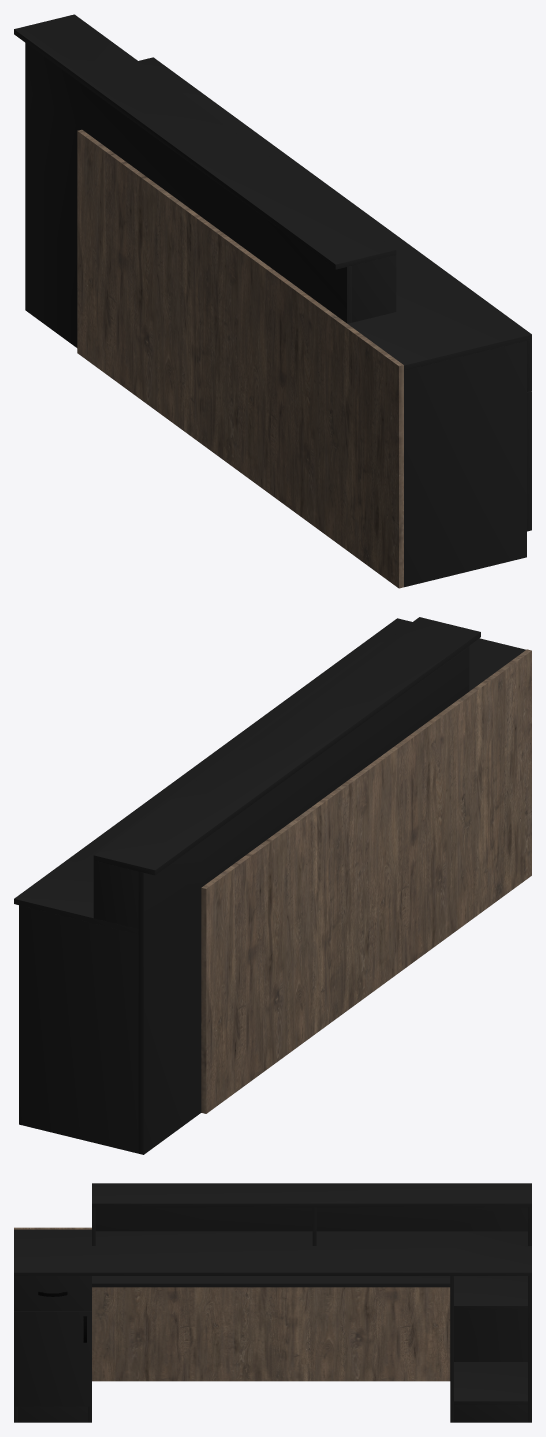
Rendered from Scrivania_reception.fbx.
3 views of the same model, one above another, from view 1: azimuth 30°, elevation 25°; view 2: azimuth 150°, elevation 25°; view 3: azimuth 270°, elevation 25° (orthographic). The views are drawn at different scales.
Parts seen in each view (by area): view 1: Scrivania_rec; view 2: Scrivania_rec; view 3: Scrivania_rec.
Boxes of the visible parts, box(x1,y1,x2,y2) form: Scrivania_rec: box(14, 14, 531, 588); Scrivania_rec: box(14, 617, 531, 1154); Scrivania_rec: box(14, 1183, 531, 1422).
Size of the model in its own units: 58.76 by 110 by 266.
